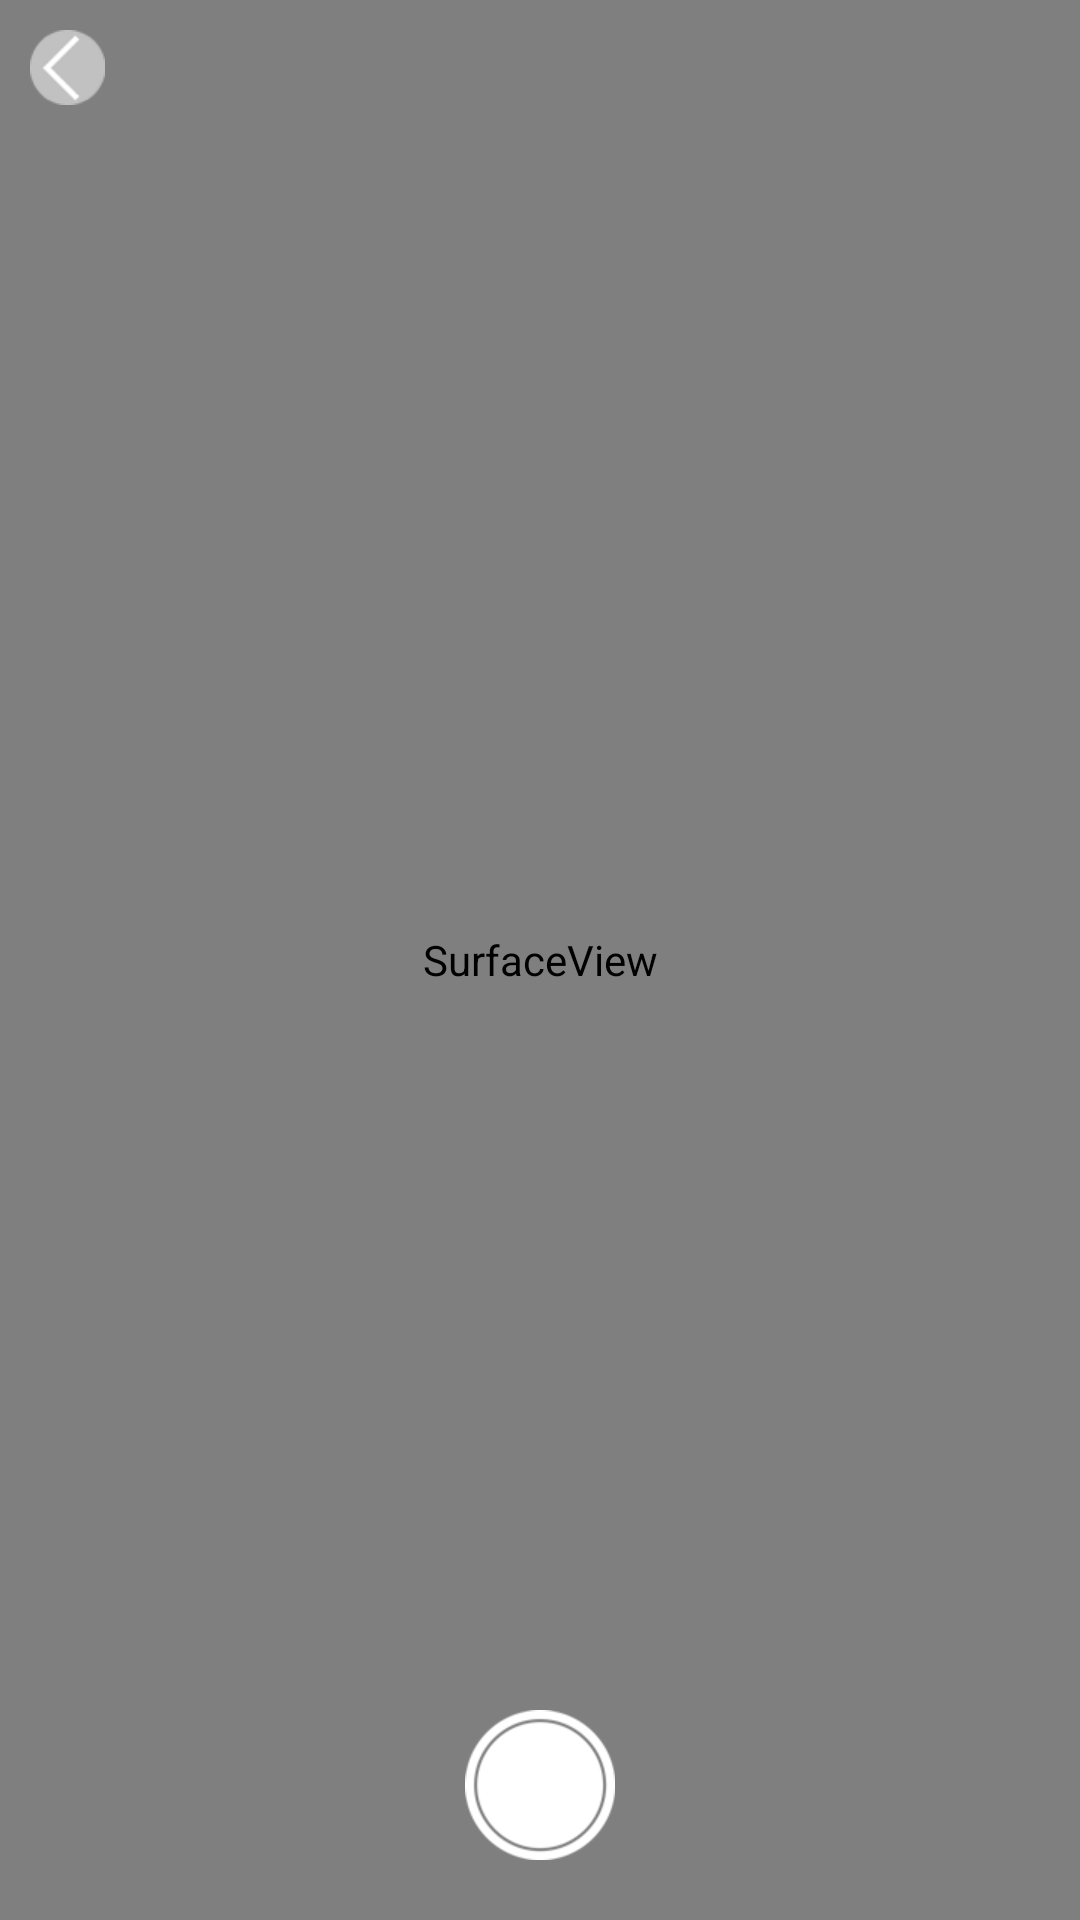

Screen size 1080px×1920px. Icon name, then its center in pixels as [x,y]:
photo back: [67,67]
